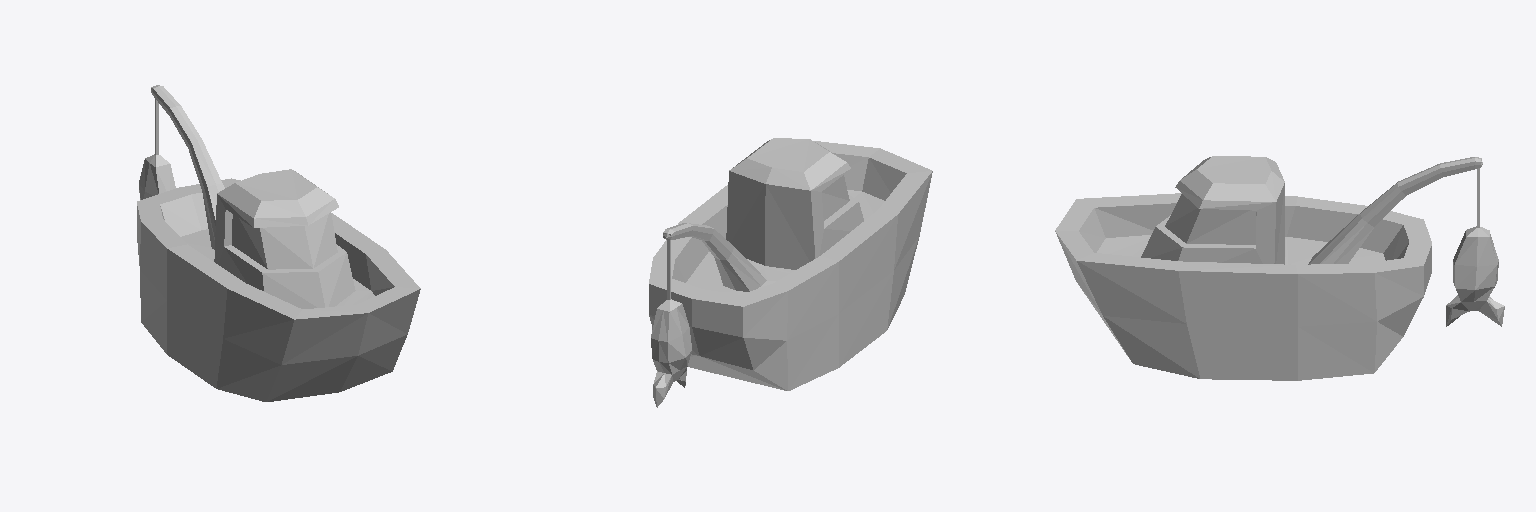
Rendered from J_BARCO.obj.
3 views of the same model, side by side, from view 1: azimuth 30°, elevation 25°; view 2: azimuth 150°, elevation 25°; view 3: azimuth 270°, elevation 25° (orthographic).
Parts seen in each view (by area): view 1: Cube; view 2: Cube; view 3: Cube.
Part boxes in pixels (x1,y1,x2,y2): Cube: (137, 85, 420, 401); Cube: (649, 138, 932, 407); Cube: (1055, 156, 1504, 380).
Size of the model in its own units: 5.73 by 6.73 by 13.98.